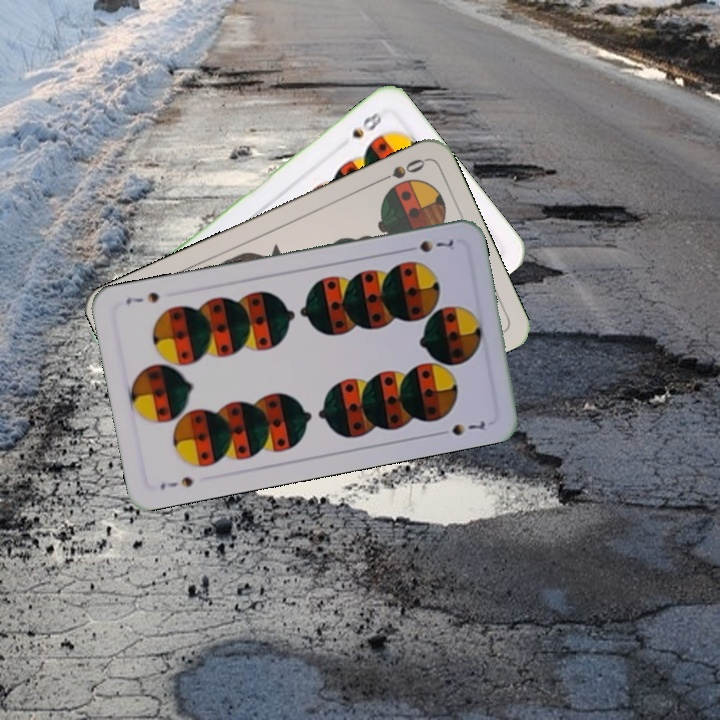S7: (400, 235, 457, 255), (156, 472, 195, 492)
S8: (347, 108, 385, 141)
SO: (372, 154, 428, 186)
